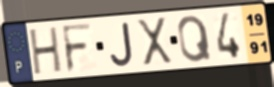4: (215, 10, 243, 61)
F: (59, 21, 94, 76)
H: (28, 24, 64, 78)
J: (108, 21, 135, 69)
Q: (175, 13, 214, 64)
X: (134, 15, 175, 69)
